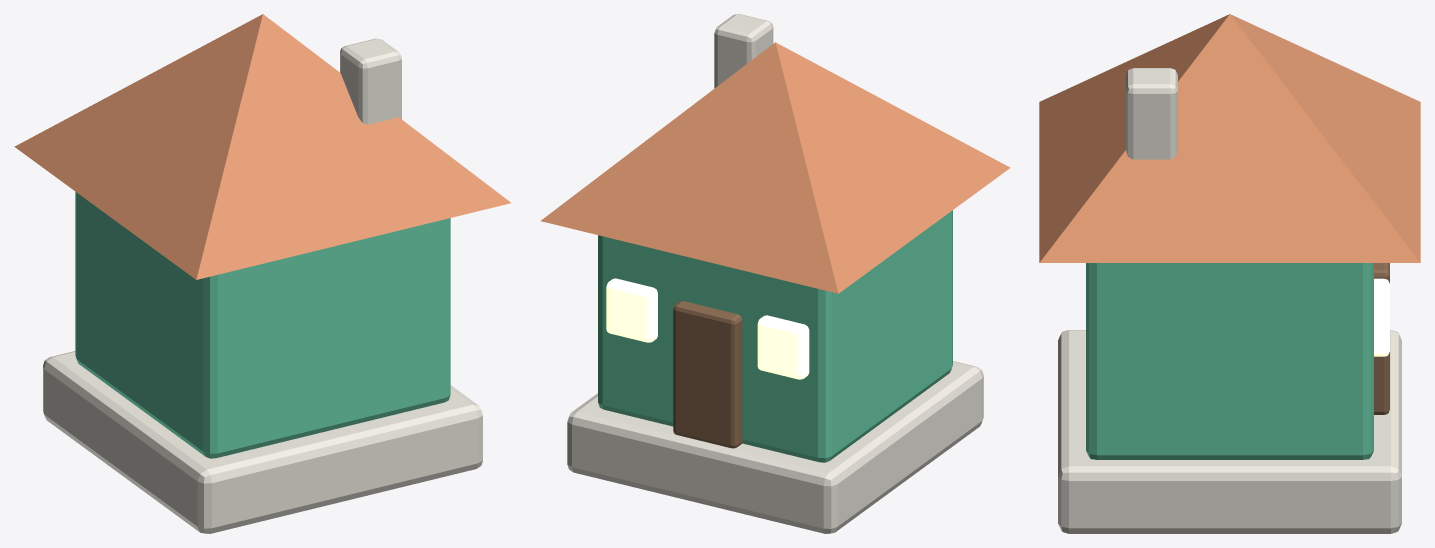
Rendered from casa_campeira.glb.
The picture shows the model from 3 angles, left to right: view 1: azimuth 30°, elevation 25°; view 2: azimuth 150°, elevation 25°; view 3: azimuth 270°, elevation 25°; orthographic projection. The views are drawn at different scales.
Visible parts, largest first — view 1: Walls, PitchedRoof, Base, Chimney; view 2: PitchedRoof, Walls, Base, Door, WinL, WinR, Chimney; view 3: PitchedRoof, Walls, Base, Chimney, WinR, Door.
Part boxes in pixels (x1,y1,x2,y2): Walls: [75, 191, 450, 458]; PitchedRoof: [14, 14, 510, 279]; Base: [43, 351, 482, 533]; Chimney: [340, 38, 401, 124]; PitchedRoof: [541, 42, 1010, 293]; Walls: [598, 210, 952, 462]; Base: [567, 361, 983, 533]; Door: [673, 301, 742, 448]; WinL: [757, 315, 809, 379]; WinR: [606, 278, 657, 342]; Chimney: [714, 14, 773, 88]; PitchedRoof: [1039, 14, 1420, 262]; Walls: [1086, 263, 1373, 459]; Base: [1058, 330, 1401, 533]; Chimney: [1126, 68, 1177, 159]; WinR: [1374, 278, 1389, 356]; Door: [1374, 263, 1389, 414].
Bounding box in the file's own units: 0.2051 × 0.268 × 0.2051.
